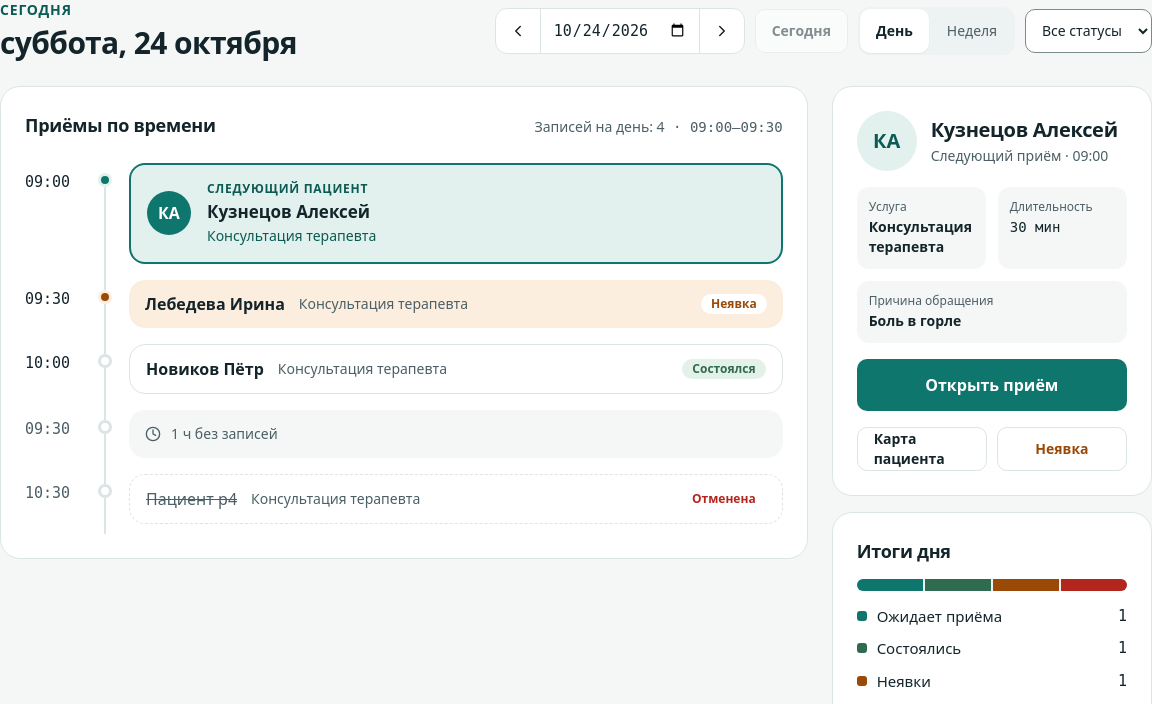
Test case: DoctorJournal › week view › should open the day in the day view when its heading is pressed
Click the button "Неделя" at (972, 31), box [931, 9, 1013, 53]
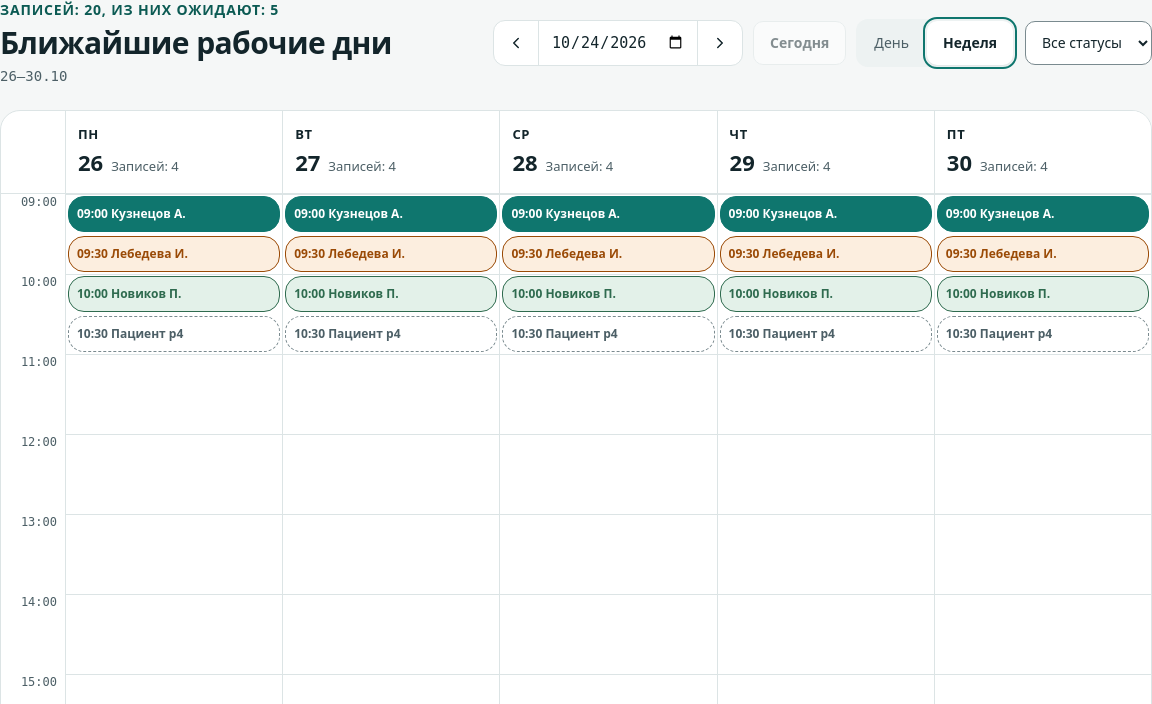
Click the button with aria-label "Открыть день:" at (391, 152), box [282, 110, 499, 194]
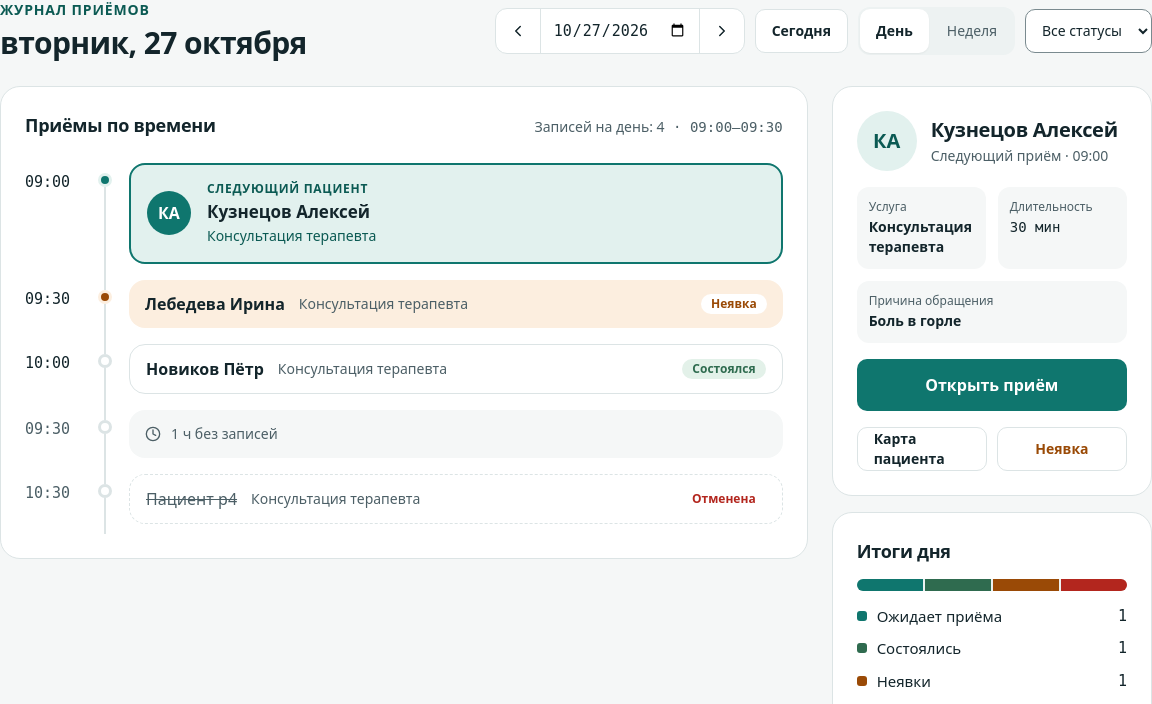
Now the element "Приёмы по времени" is shown, box [0, 86, 808, 559]
